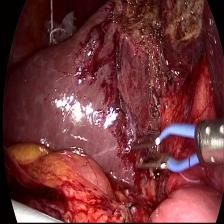Bipolar: (128, 116, 224, 180)
Specimen Bag: (43, 8, 82, 50)
